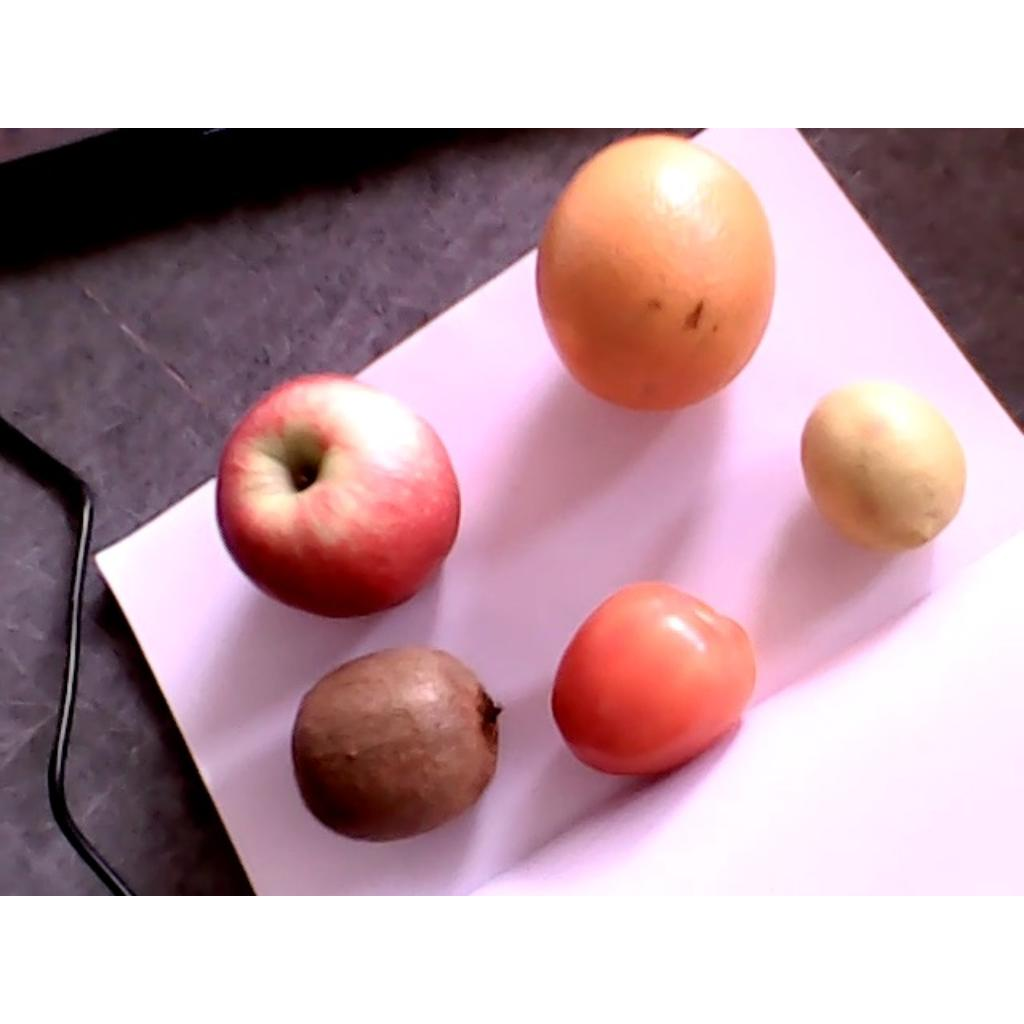apple: (216, 374, 461, 619)
kiwi: (294, 648, 505, 844)
lemon: (801, 388, 967, 550)
orange: (537, 133, 776, 411)
tomato: (552, 581, 755, 778)
